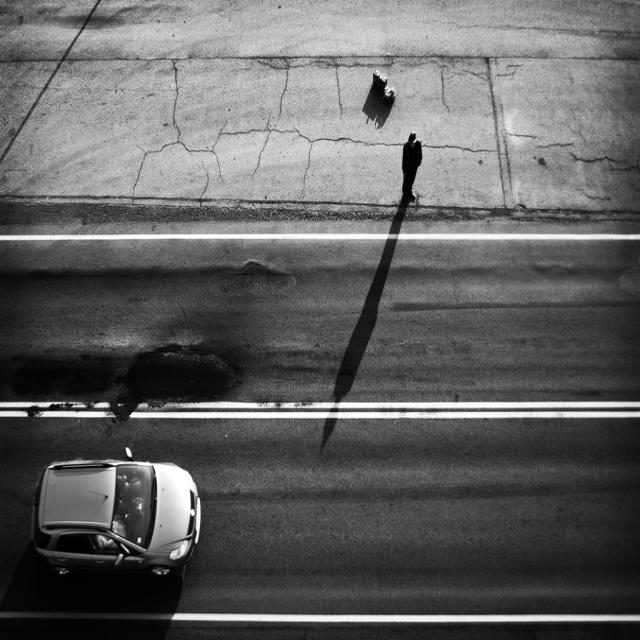Car: (32, 447, 201, 578)
